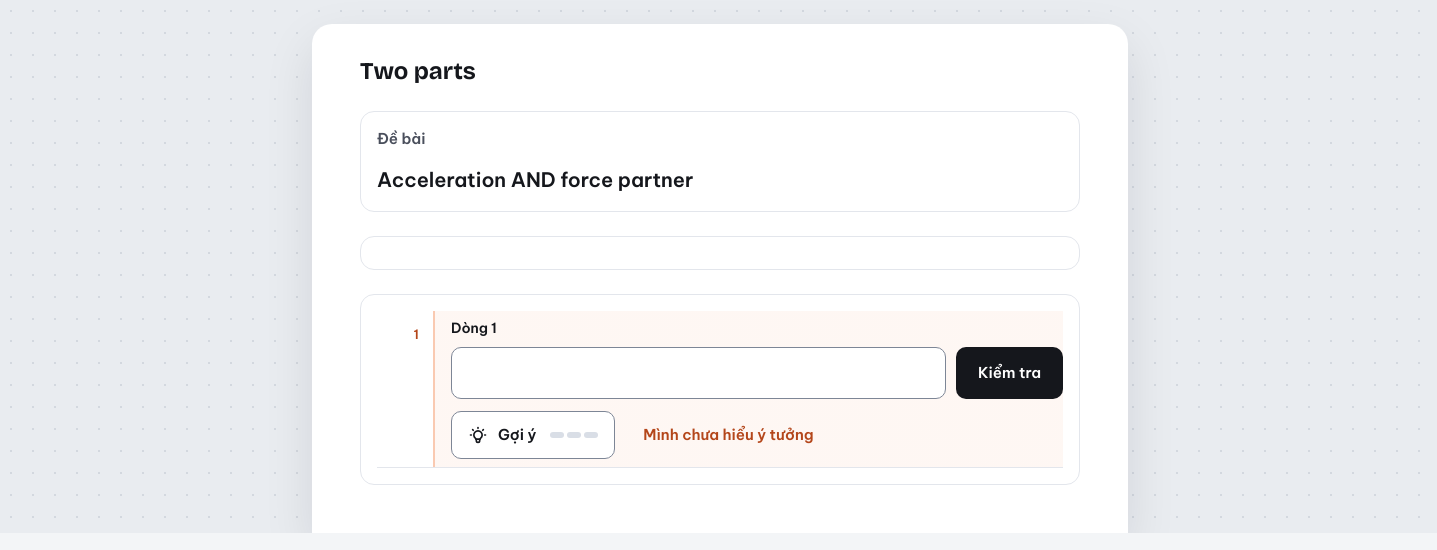
Test case: restoring partial checks completion keeps the remaining part open
Check: the text "Xong bài" is not shown
Type "2" into the field.
click(698, 373); type("2")  # box [451,347,946,399]
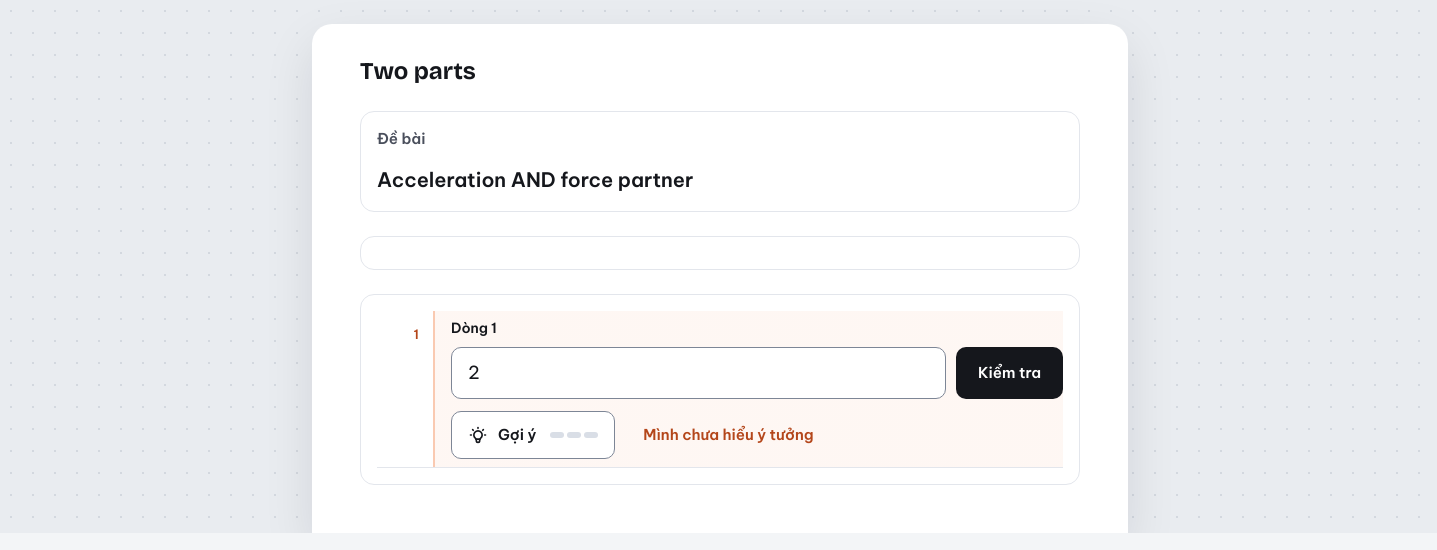
Click the button "Kiểm tra".
click(1010, 373)  # box [956,347,1063,399]
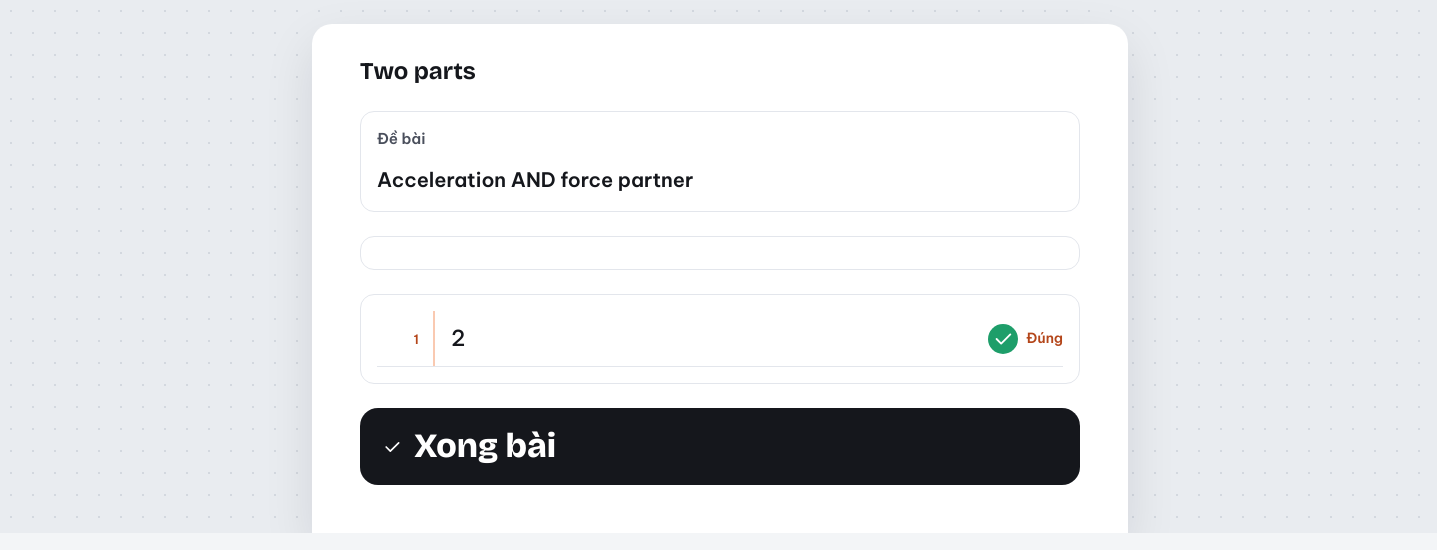
Check: the text "Đúng" is shown once, box [988,324,1063,354]
Check: the text "Xong bài" is shown, box [414,426,556,467]
